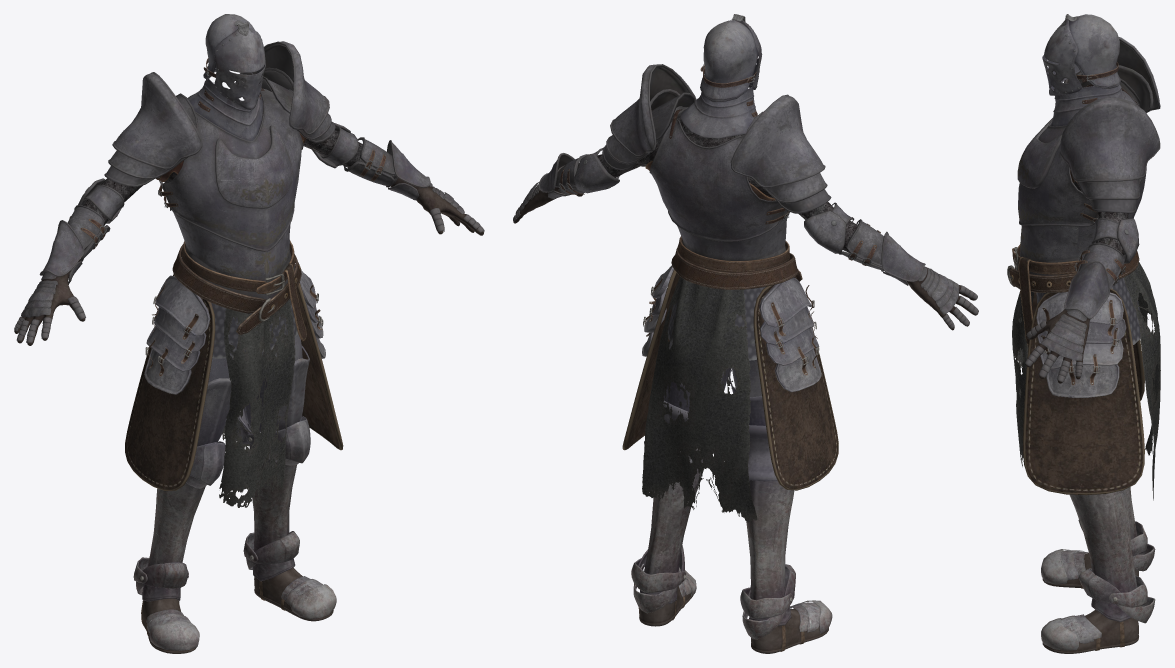
Rendered from knight_web.glb.
3 views of the same model, side by side, from view 1: azimuth 30°, elevation 25°; view 2: azimuth 150°, elevation 25°; view 3: azimuth 270°, elevation 25° (orthographic).
Parts seen in each view (by area): view 1: top_low, bottom_low, cloak_low, helmet_low; view 2: top_low, bottom_low, cloak_low, helmet_low; view 3: bottom_low, top_low, helmet_low, cloak_low.
Boxes of the visible parts, x1,y1,x2,y2 form: top_low: [14, 41, 484, 345]; bottom_low: [125, 264, 343, 653]; cloak_low: [219, 299, 295, 507]; helmet_low: [187, 14, 265, 140]; top_low: [513, 64, 978, 330]; bottom_low: [622, 265, 838, 653]; cloak_low: [642, 276, 757, 522]; helmet_low: [680, 14, 762, 138]; bottom_low: [1023, 277, 1155, 653]; top_low: [1007, 37, 1160, 383]; helmet_low: [1042, 14, 1135, 126]; cloak_low: [1012, 262, 1160, 500].
Size of the model in its own units: 0.6146 by 0.7762 by 0.1809.
Materials: 4 (4 with a texture image).
